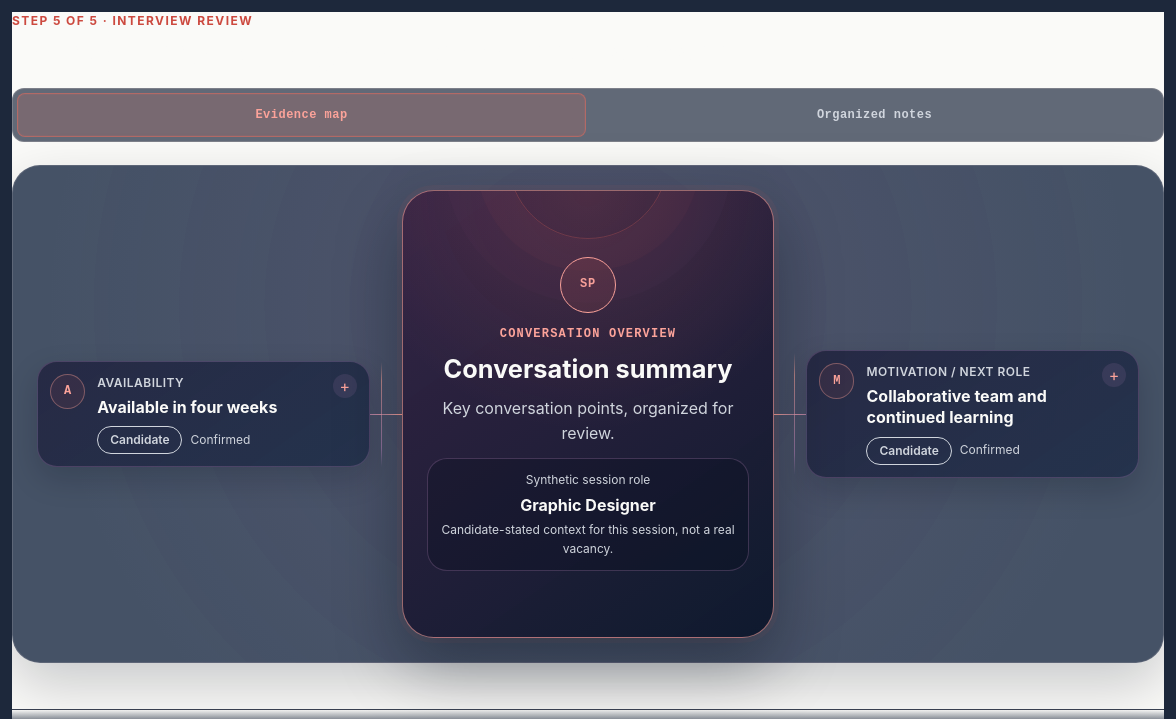
Test: InterviewEvidenceReview › previews the selected node in the center until another node replaces it or it is minimized
This screenshot has width=1176, height=719.
Check: the heading "Conversation summary" is shown, box [444,355,732,384]
Check: the text "What matters most in your next role?" is not shown
Click the button that starts with "Motivation / next role".
click(973, 414)  # box [806,350,1139,478]
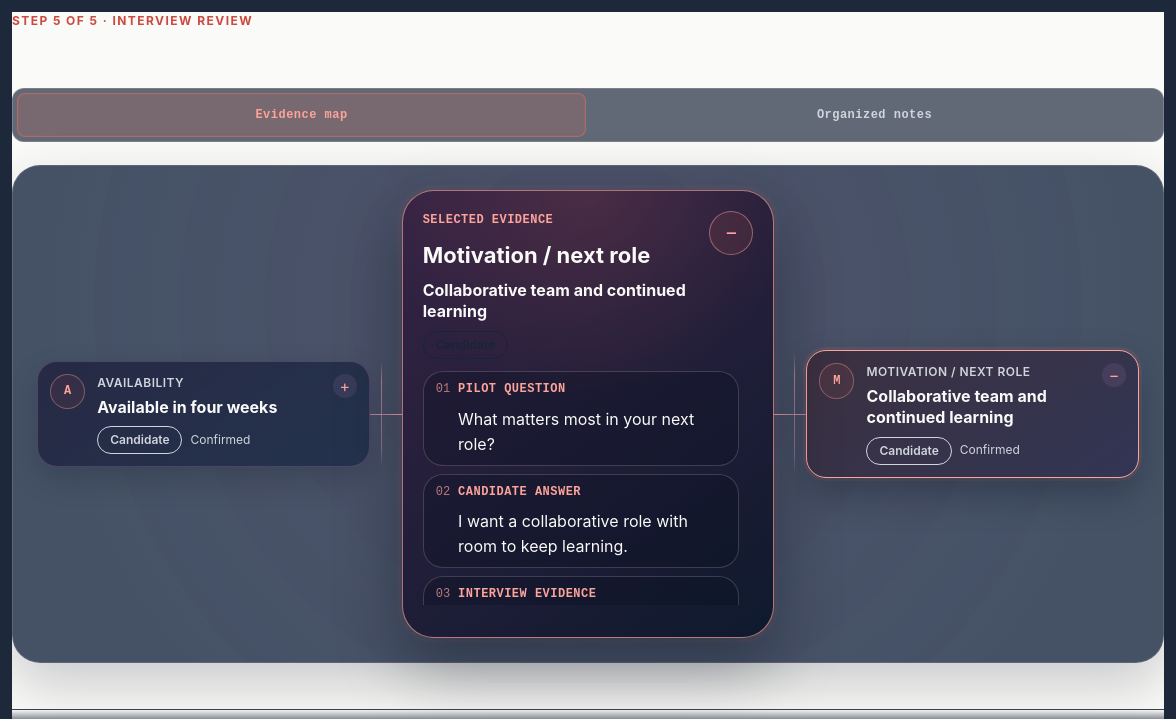
Check: the button that starts with "Motivation / next role" is expanded, box [806,350,1139,478]
Check: the text "What matters most in your next role?" is shown, box [458,407,726,457]
Check: the text "I want a collaborative role with room to keep learning." is shown, box [458,509,726,559]
Click the button "A Availability Available in four weeks Candidate confirmed +".
click(203, 414)  # box [37,361,370,467]
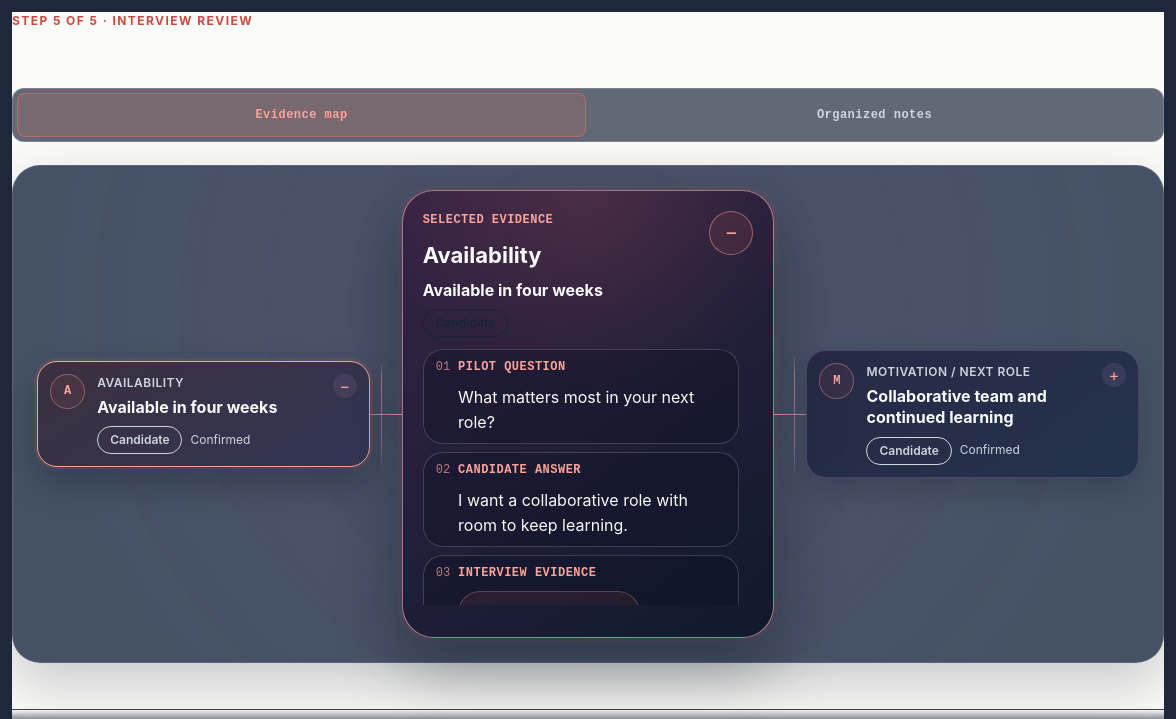
Check: the button that starts with "Motivation / next role" is collapsed, box [806,350,1139,478]
Check: the button "A Availability Available in four weeks Candidate confirmed −" is expanded, box [37,361,370,467]
Check: the element named "Expanded evidence for Availability" is shown, box [402,190,774,638]
Click the button named "Minimize evidence preview".
click(731, 233)  # box [709,211,753,255]
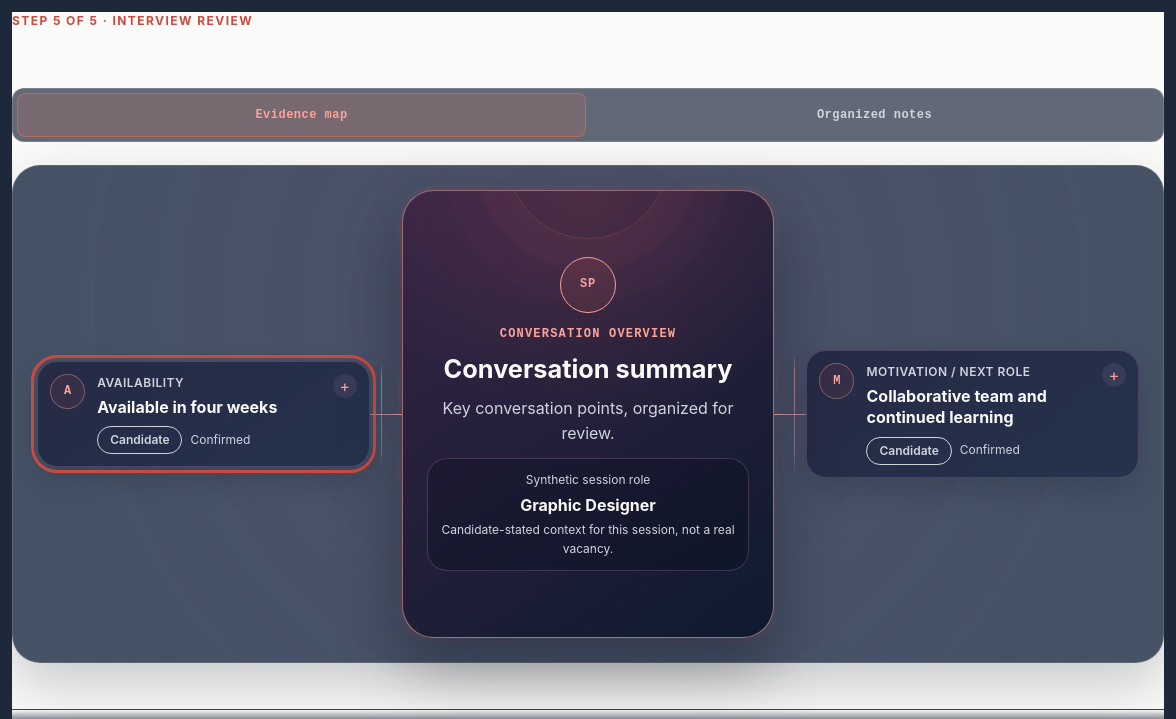
Check: the button "A Availability Available in four weeks Candidate confirmed +" is collapsed, box [37,361,370,467]
Check: the heading "Conversation summary" is shown, box [444,355,732,384]
